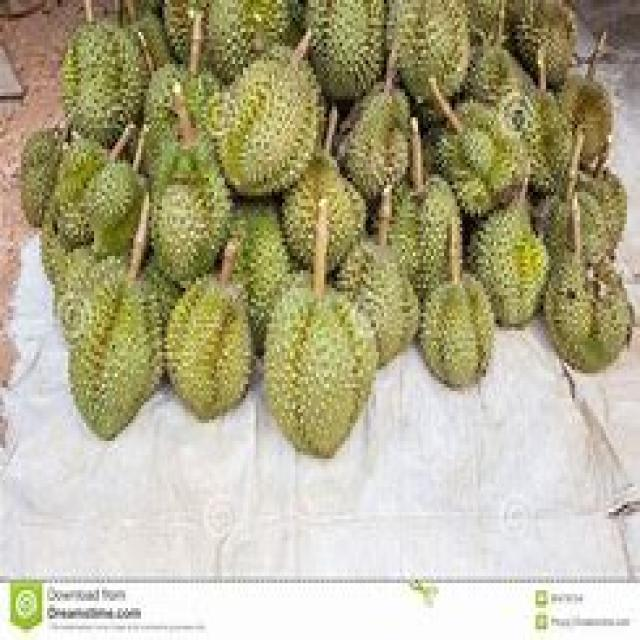immature: (262, 282, 380, 463), (61, 255, 164, 441), (208, 40, 328, 199), (169, 269, 256, 424), (544, 241, 635, 376), (154, 140, 235, 290), (334, 235, 421, 371), (431, 102, 532, 218), (279, 152, 368, 280), (62, 14, 144, 146), (332, 83, 415, 206), (468, 205, 550, 327), (389, 175, 464, 299), (421, 267, 492, 394), (66, 160, 149, 262)
